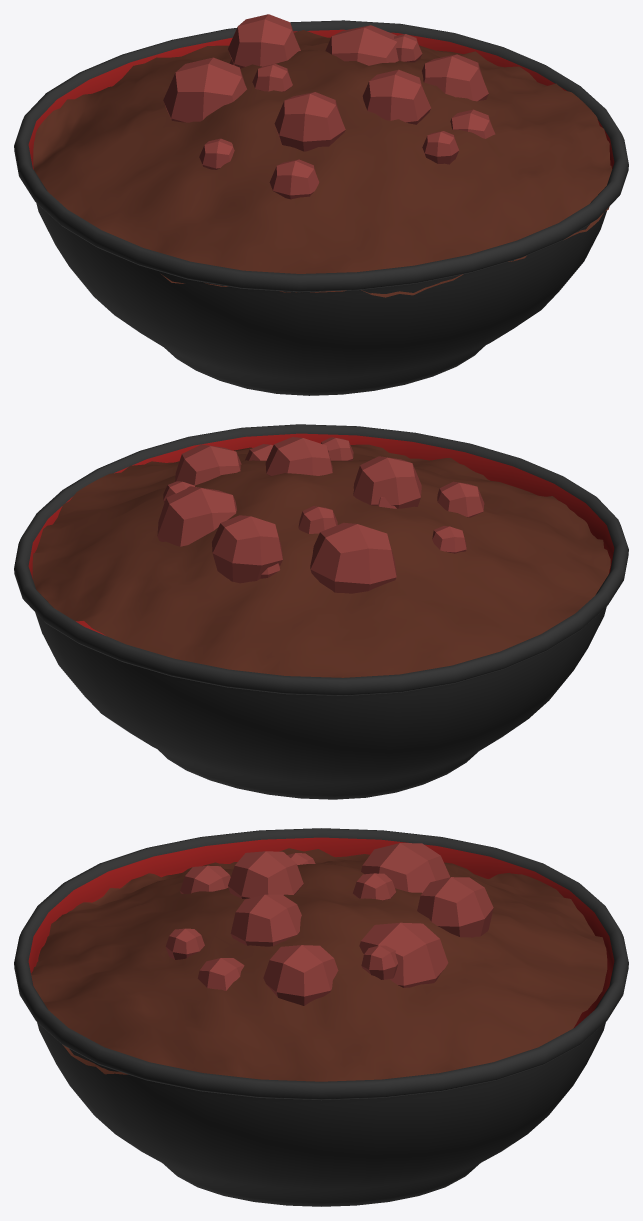
The model's file is kitfo.glb.
3 renders of one model, top to bottom at view 1: azimuth 30°, elevation 25°; view 2: azimuth 150°, elevation 25°; view 3: azimuth 270°, elevation 25°, orthographic.
Visible parts, largest first — view 1: Kitfo, Shekla, Chunks; view 2: Kitfo, Shekla, Chunks; view 3: Kitfo, Shekla, Chunks.
Boxes of the visible parts, <box> form: Kitfo: <box>33,30,612,297</box>; Shekla: <box>14,20,628,395</box>; Chunks: <box>163,14,495,199</box>; Kitfo: <box>32,444,610,677</box>; Shekla: <box>14,424,628,799</box>; Chunks: <box>157,437,484,593</box>; Kitfo: <box>31,848,607,1081</box>; Shekla: <box>14,828,628,1206</box>; Chunks: <box>165,843,493,1005</box>.
Size of the model in its own units: 3.22 by 1.53 by 3.22.
